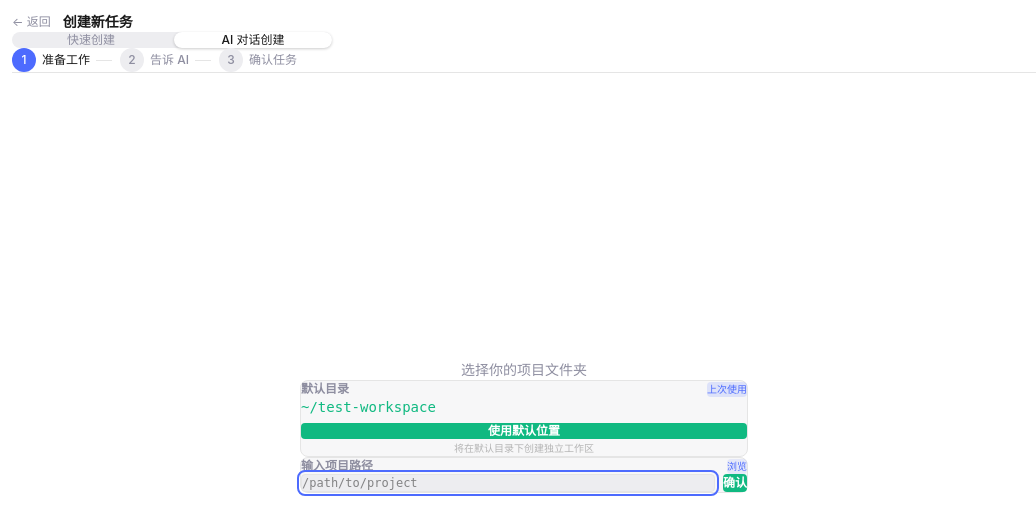
TaskWizard › mode switching › should switch to quick create mode
This screenshot has width=1036, height=513.
Step 1. Click the button "快速创建" → (91, 40), box [12, 32, 170, 48]
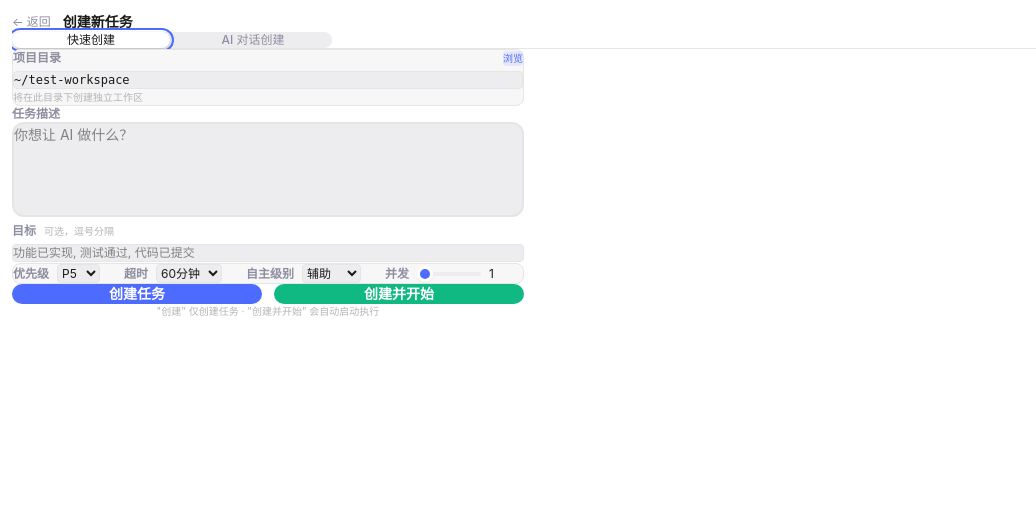
Check: the heading "任务描述" is shown, box [12, 106, 60, 121]
Check: the element "任务创建步骤" is gone
